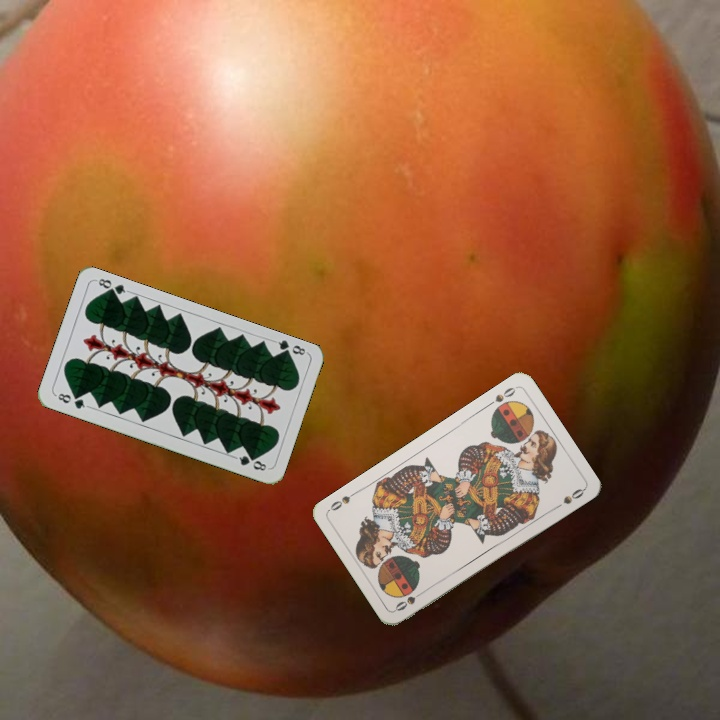G8: (270, 336, 310, 360), (52, 389, 91, 412)
SO: (391, 586, 428, 614), (483, 383, 519, 409)
